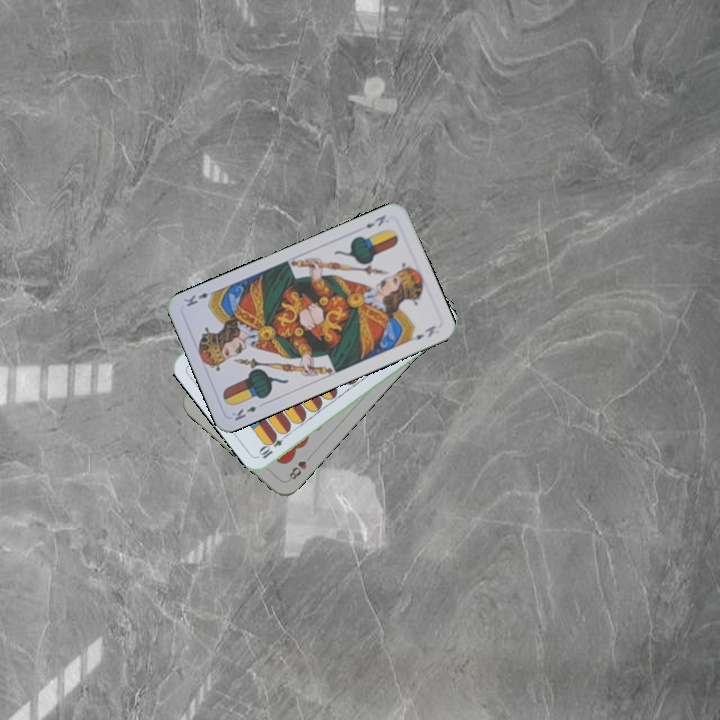E10: (255, 429, 291, 461)
EK: (228, 402, 260, 423), (361, 210, 389, 231)
H8: (285, 450, 315, 483)
